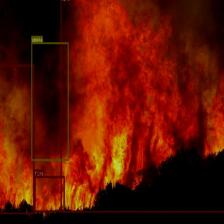fire: (60, 0, 224, 212), (0, 64, 34, 214), (34, 176, 64, 212)
smoke: (31, 42, 69, 161)
